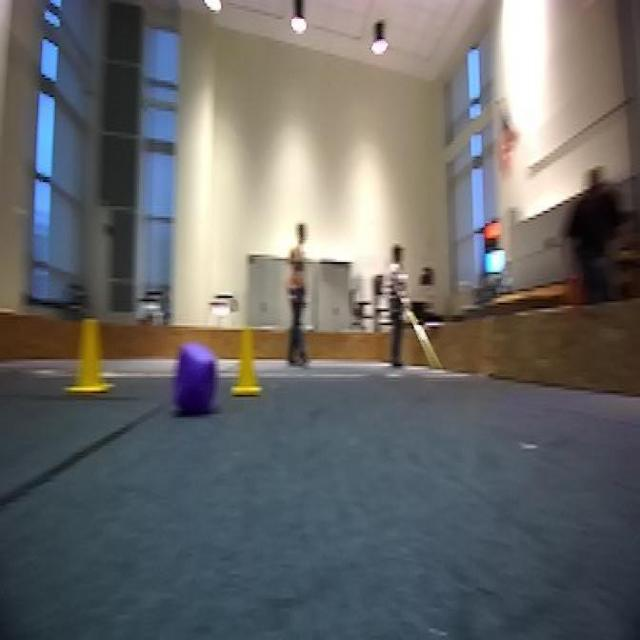frc_cone: (65, 311, 111, 395), (227, 327, 263, 395)
frc_cube: (172, 344, 219, 417)
